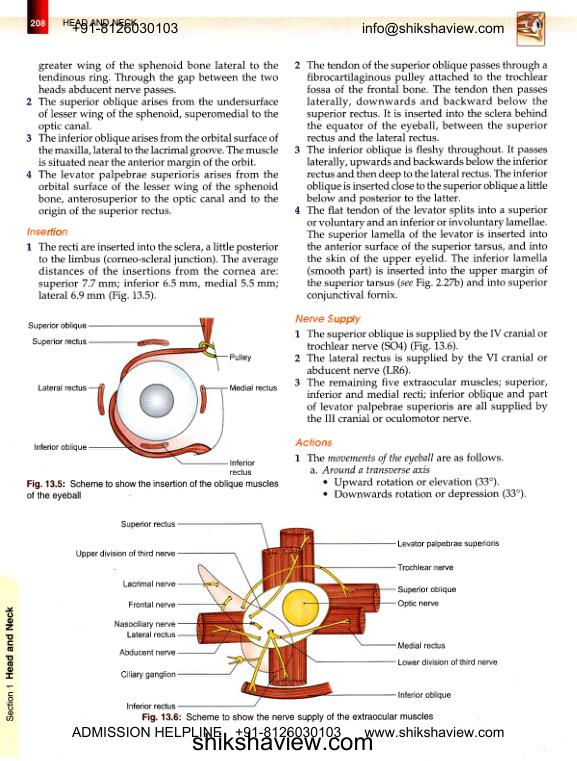caption: (25, 479, 280, 502), (141, 712, 434, 724)
header: (62, 18, 138, 27)
image: (65, 513, 504, 711), (23, 312, 282, 477)
list: (293, 58, 549, 303), (23, 58, 280, 219), (293, 328, 549, 424), (24, 240, 280, 304), (294, 452, 528, 502)
sub-section-heading: (294, 313, 362, 326), (25, 226, 70, 238), (294, 437, 334, 448)
